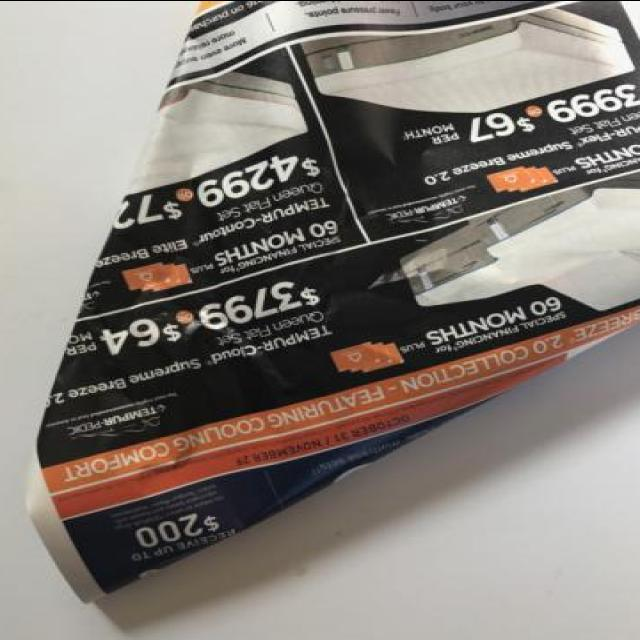kertas: (23, 0, 640, 604)
